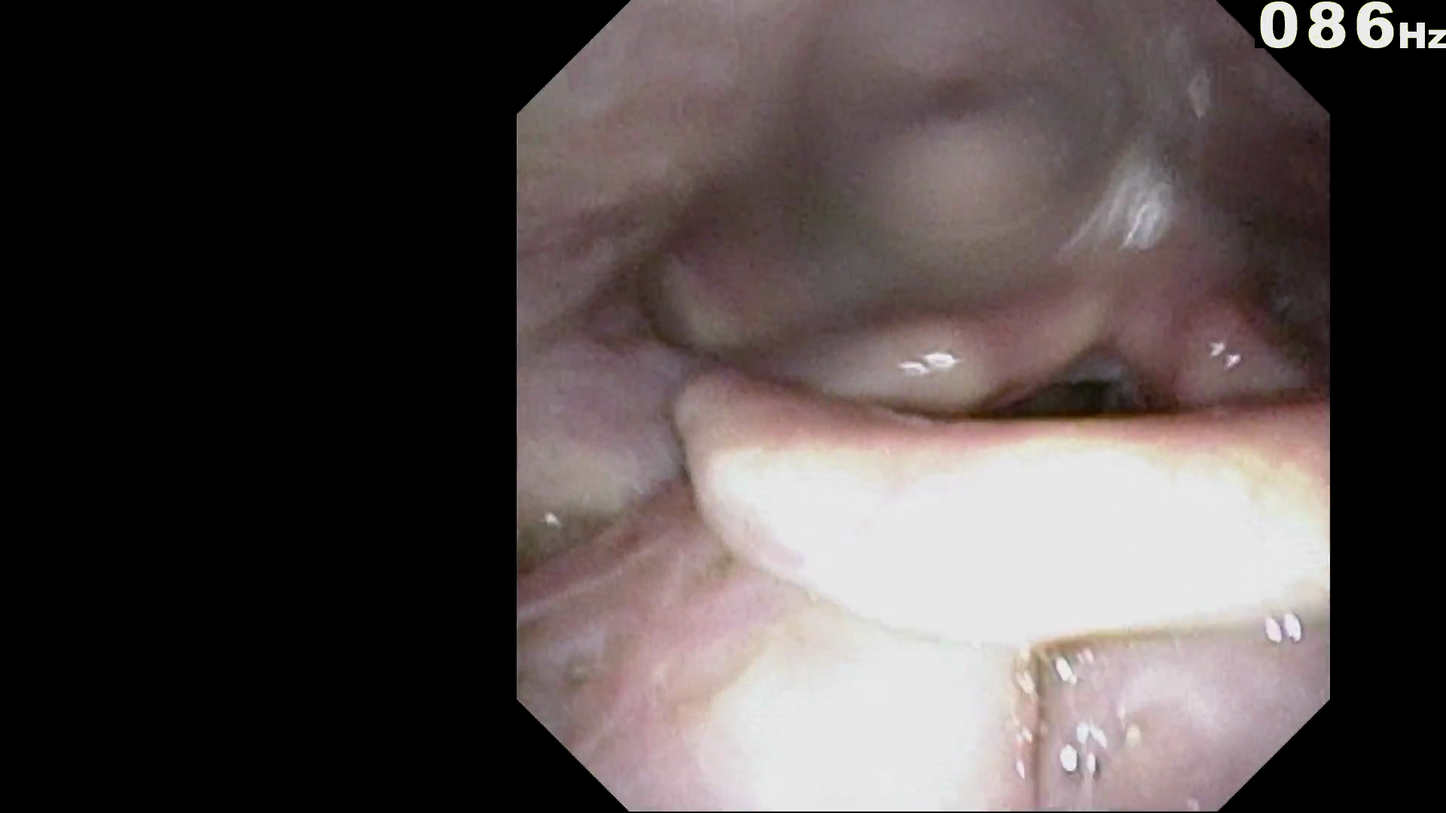epiglottis: (718, 368, 1309, 593)
trachea: (1048, 370, 1150, 455)
